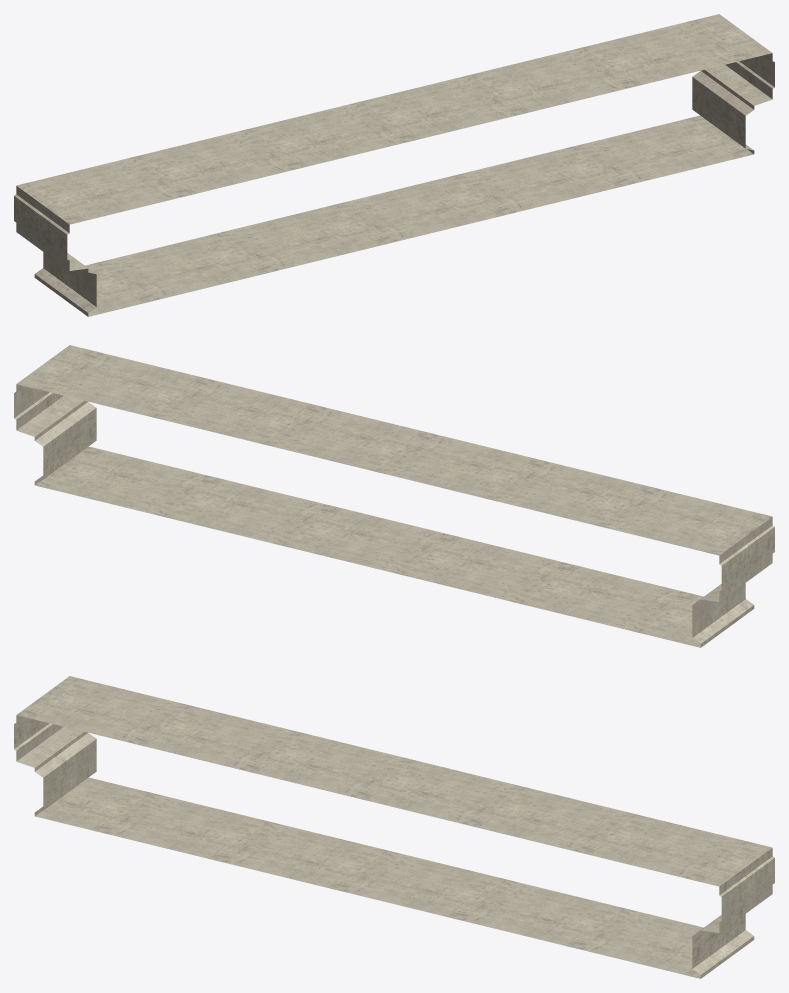
Rendered from BridgeBase9-6L.FBX.
The picture shows the model from 3 angles, top to bottom: view 1: azimuth 30°, elevation 25°; view 2: azimuth 150°, elevation 25°; view 3: azimuth 330°, elevation 25°; orthographic projection.
Parts seen in each view (by area): view 1: BridgeBase9-6L; view 2: BridgeBase9-6L; view 3: BridgeBase9-6L.
Part boxes in pixels (x1,y1,x2,y2): BridgeBase9-6L: (14, 14, 774, 316); BridgeBase9-6L: (14, 345, 774, 647); BridgeBase9-6L: (14, 676, 774, 978).
Bounding box in the file's own units: 38.24 × 5 × 5.
